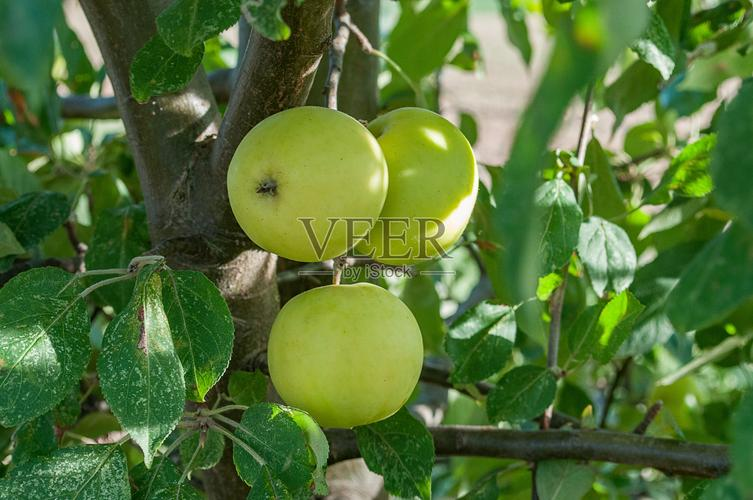unripe: (216, 98, 394, 269), (335, 105, 489, 261), (263, 282, 427, 427)
